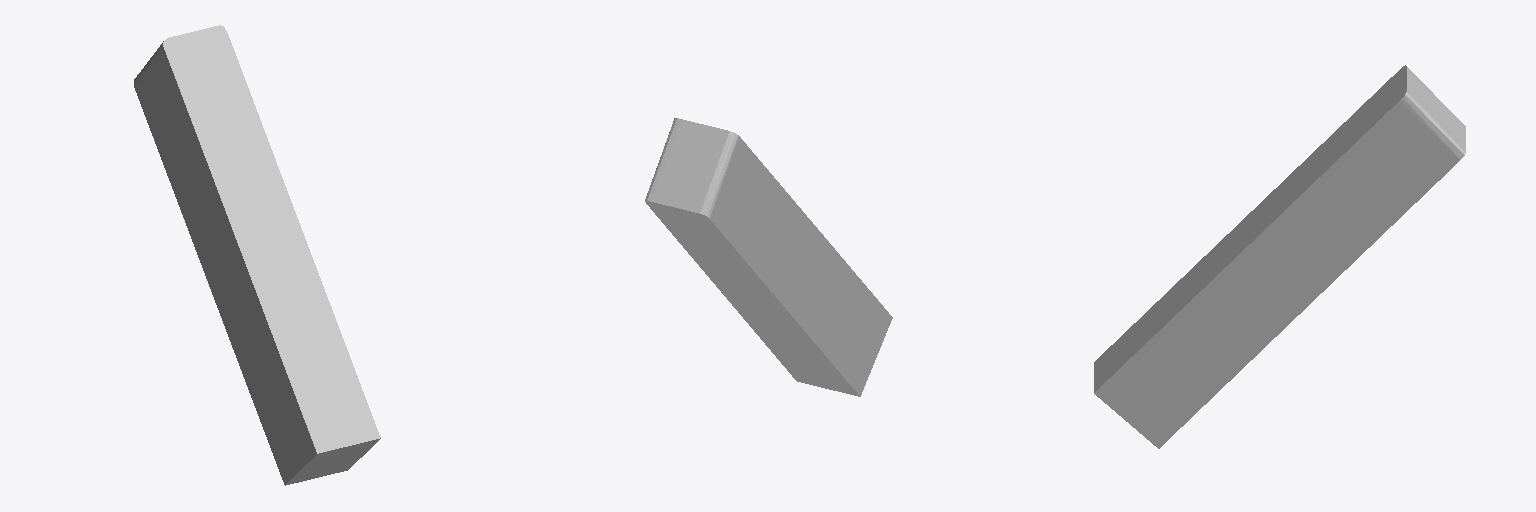
Rendered from Carbon_Mov_Finger_021_v1_1_mesh_collision_19.obj.
3 renders of one model, left to right at view 1: azimuth 30°, elevation 25°; view 2: azimuth 150°, elevation 25°; view 3: azimuth 270°, elevation 25°, orthographic.
Size of the model in its own units: 0.0033 by 0.0174 by 0.0166.